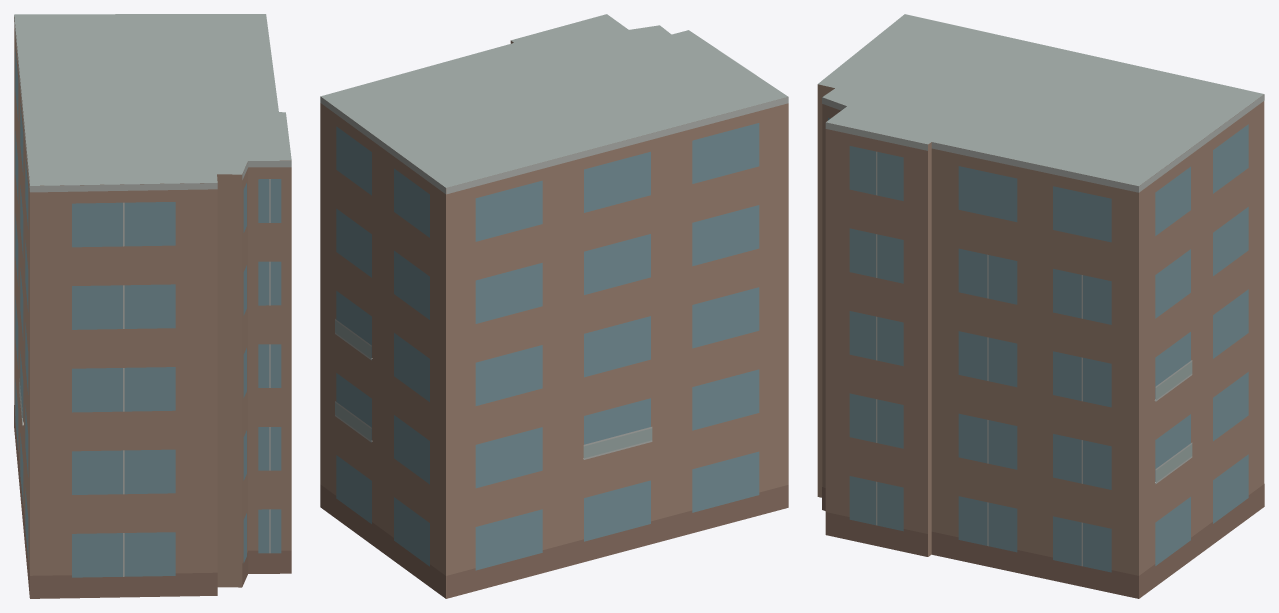
Rendered from survey-upis-32880492.glb.
The picture shows the model from 3 angles, left to right: view 1: azimuth 30°, elevation 25°; view 2: azimuth 150°, elevation 25°; view 3: azimuth 270°, elevation 25°; orthographic projection.
Visible parts, largest first — view 1: survey-upis-32880492.tmp; view 2: survey-upis-32880492.tmp; view 3: survey-upis-32880492.tmp.
Boxes of the visible parts, x1=… form: survey-upis-32880492.tmp: x1=14, y1=14, x2=291, y2=598; survey-upis-32880492.tmp: x1=320, y1=14, x2=788, y2=598; survey-upis-32880492.tmp: x1=817, y1=14, x2=1264, y2=598.
Bounding box in the file's own units: 13.89 × 15.5 × 15.23.
